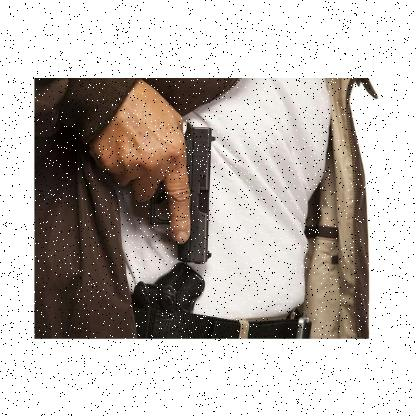gun: (126, 122, 212, 264)
